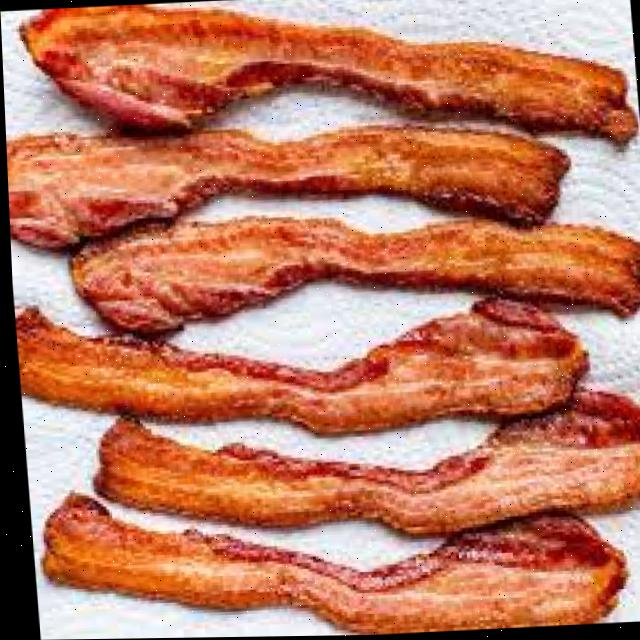Bacon: (20, 6, 635, 145), (38, 494, 620, 634), (90, 393, 640, 534), (11, 300, 583, 434), (5, 128, 567, 248), (68, 218, 640, 332)
